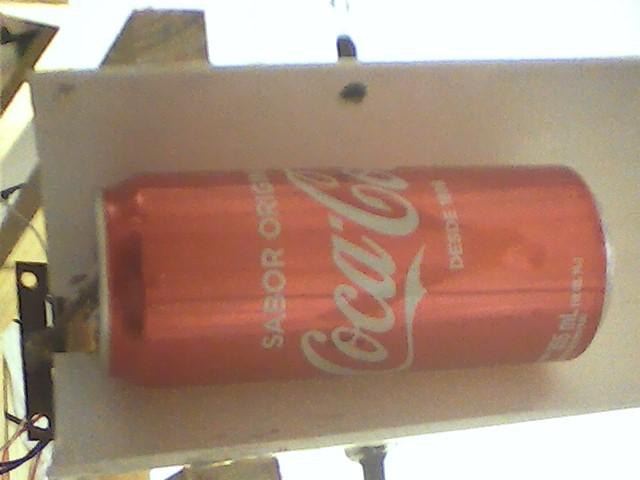lata: (88, 159, 618, 393)
